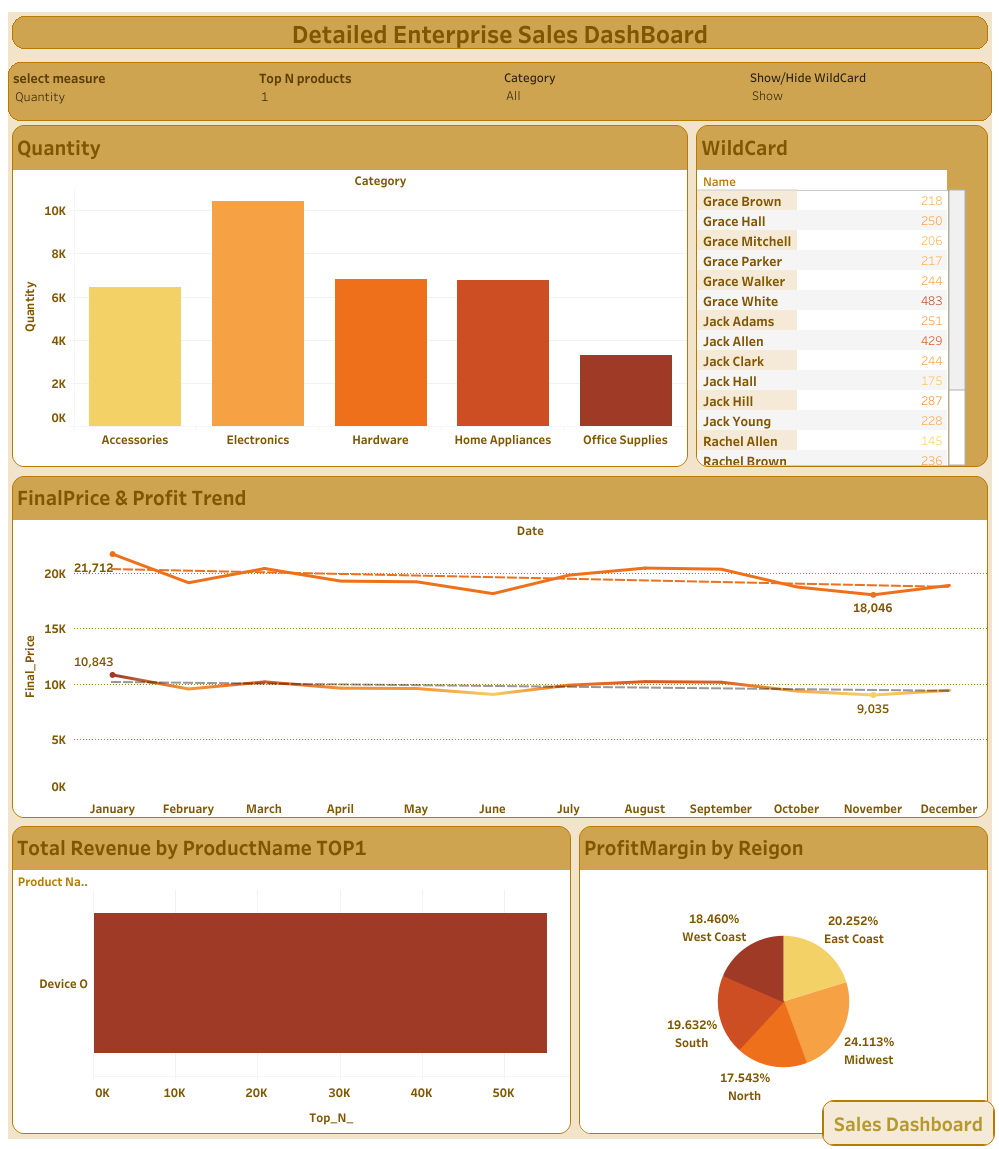

This screenshot's page, from the dashboard's own definition file:
{"tool":"tableau","page":{"name":"Detailed Dashboard","canvas":[1000,1150],"ordinal":0},"visuals":[{"type":"image","param":"C:/Users/MGMAGI~1/AppData/Local/Temp/TableauTemp/0qei3wc1ifilz31ao8or40v08am9/Sh","box":[864,11,66,49]},{"type":"text","box":[8,11.5,984,41]},{"type":"parameter","param":"[Parameters].[Parameter 0764743461109765]","box":[9,62.5,245.5,58]},{"type":"parameter","param":"[Parameters].[Parameter 0764743465230347]","box":[254.5,62.5,245.5,58]},{"type":"filter","title":"Parameter1","param":"[federated.1jkwm7j03nqjje102eus40lsdnv0].[none:Category:nk]","box":[500,62.5,245.5,58]},{"type":"parameter","param":"[Parameters].[Parameter 0514330419134465]","box":[745.5,62.5,245.5,58]},{"type":"worksheet","title":"Parameter1","mark":"Automatic","rows":["Calculation_0764743461687302"],"cols":["Category"],"box":[8,121.5,684,350]},{"type":"worksheet","title":"WildCard1","mark":"Automatic","rows":["Name"],"box":[692,121.5,300,350]},{"type":"worksheet","title":"DualAxis","mark":"Automatic","rows":["Calculation_0764743443058688","Calculation_1696853633961984"],"cols":["Date"],"box":[8,471.5,984,350]},{"type":"worksheet","title":"Total Revenue by ProductName","mark":"Automatic","rows":["Product_Name"],"box":[8,821.5,567,317]},{"type":"worksheet","title":"Profit Margin by Reigon","mark":"Pie","box":[575,821.5,417,317]},{"type":"dashboard-object","box":[822,1100,173,46]}]}

Visuals, with their boxes in screenshot pixels (x1, y1, x2, y2), scaled from the page's 1000x1150 canvas onto the 999x1149 screenshot:
image: bbox=(863, 11, 929, 60)
text: bbox=(8, 11, 991, 52)
parameter: bbox=(9, 62, 254, 120)
parameter: bbox=(254, 62, 500, 120)
"Parameter1" filter: bbox=(500, 62, 745, 120)
parameter: bbox=(745, 62, 990, 120)
"Parameter1" worksheet: bbox=(8, 121, 691, 471)
"WildCard1" worksheet: bbox=(691, 121, 991, 471)
"DualAxis" worksheet: bbox=(8, 471, 991, 821)
"Total Revenue by ProductName" worksheet: bbox=(8, 821, 574, 1138)
"Profit Margin by Reigon" worksheet (Pie marks): bbox=(574, 821, 991, 1138)
dashboard-object: bbox=(821, 1099, 994, 1145)
